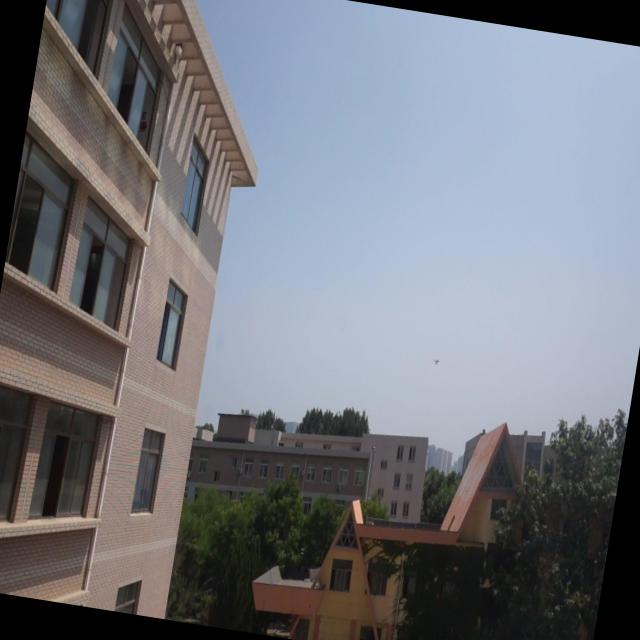drone: (430, 352, 444, 371)
